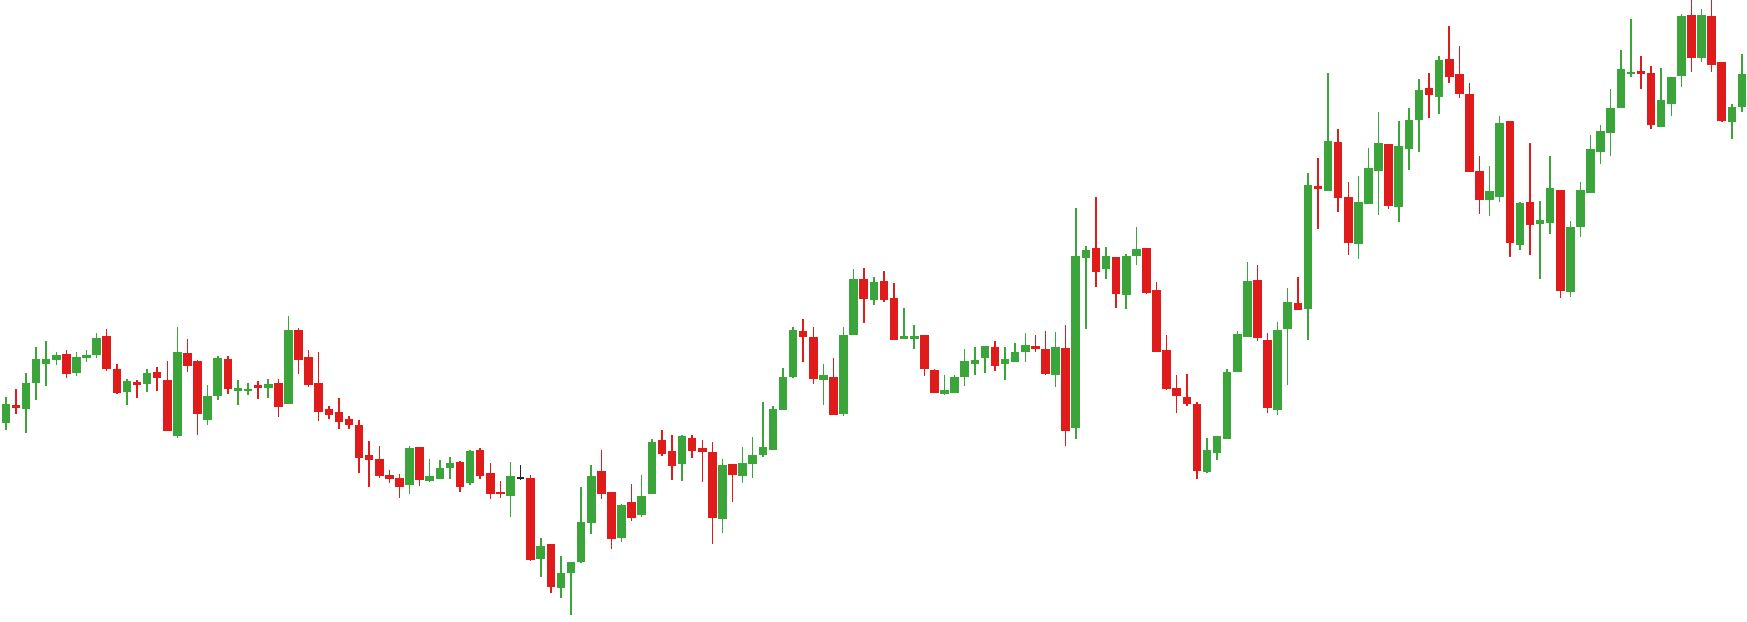buy: (1060, 315, 1234, 487), (625, 461, 729, 544)
sell: (211, 313, 306, 392), (1626, 1, 1697, 103)
